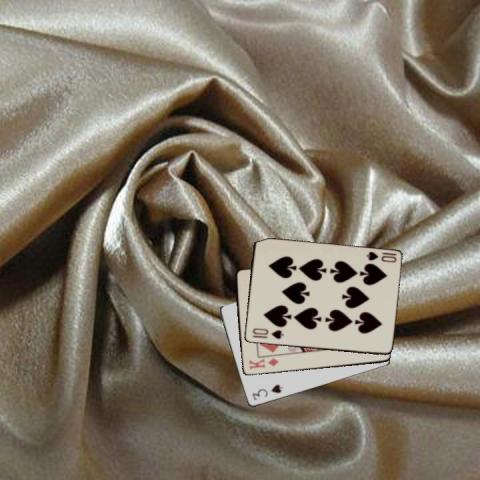10s: (249, 325, 284, 341), (364, 249, 398, 264)
3s: (249, 382, 284, 402)
Kd: (246, 356, 280, 372)
